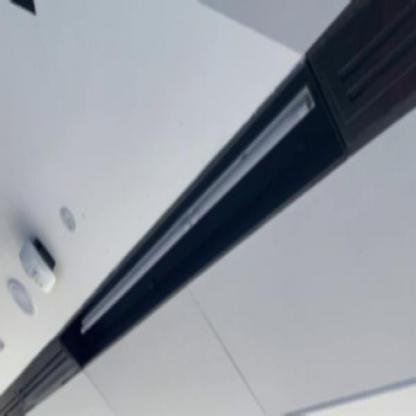light_off: (76, 68, 320, 349)
